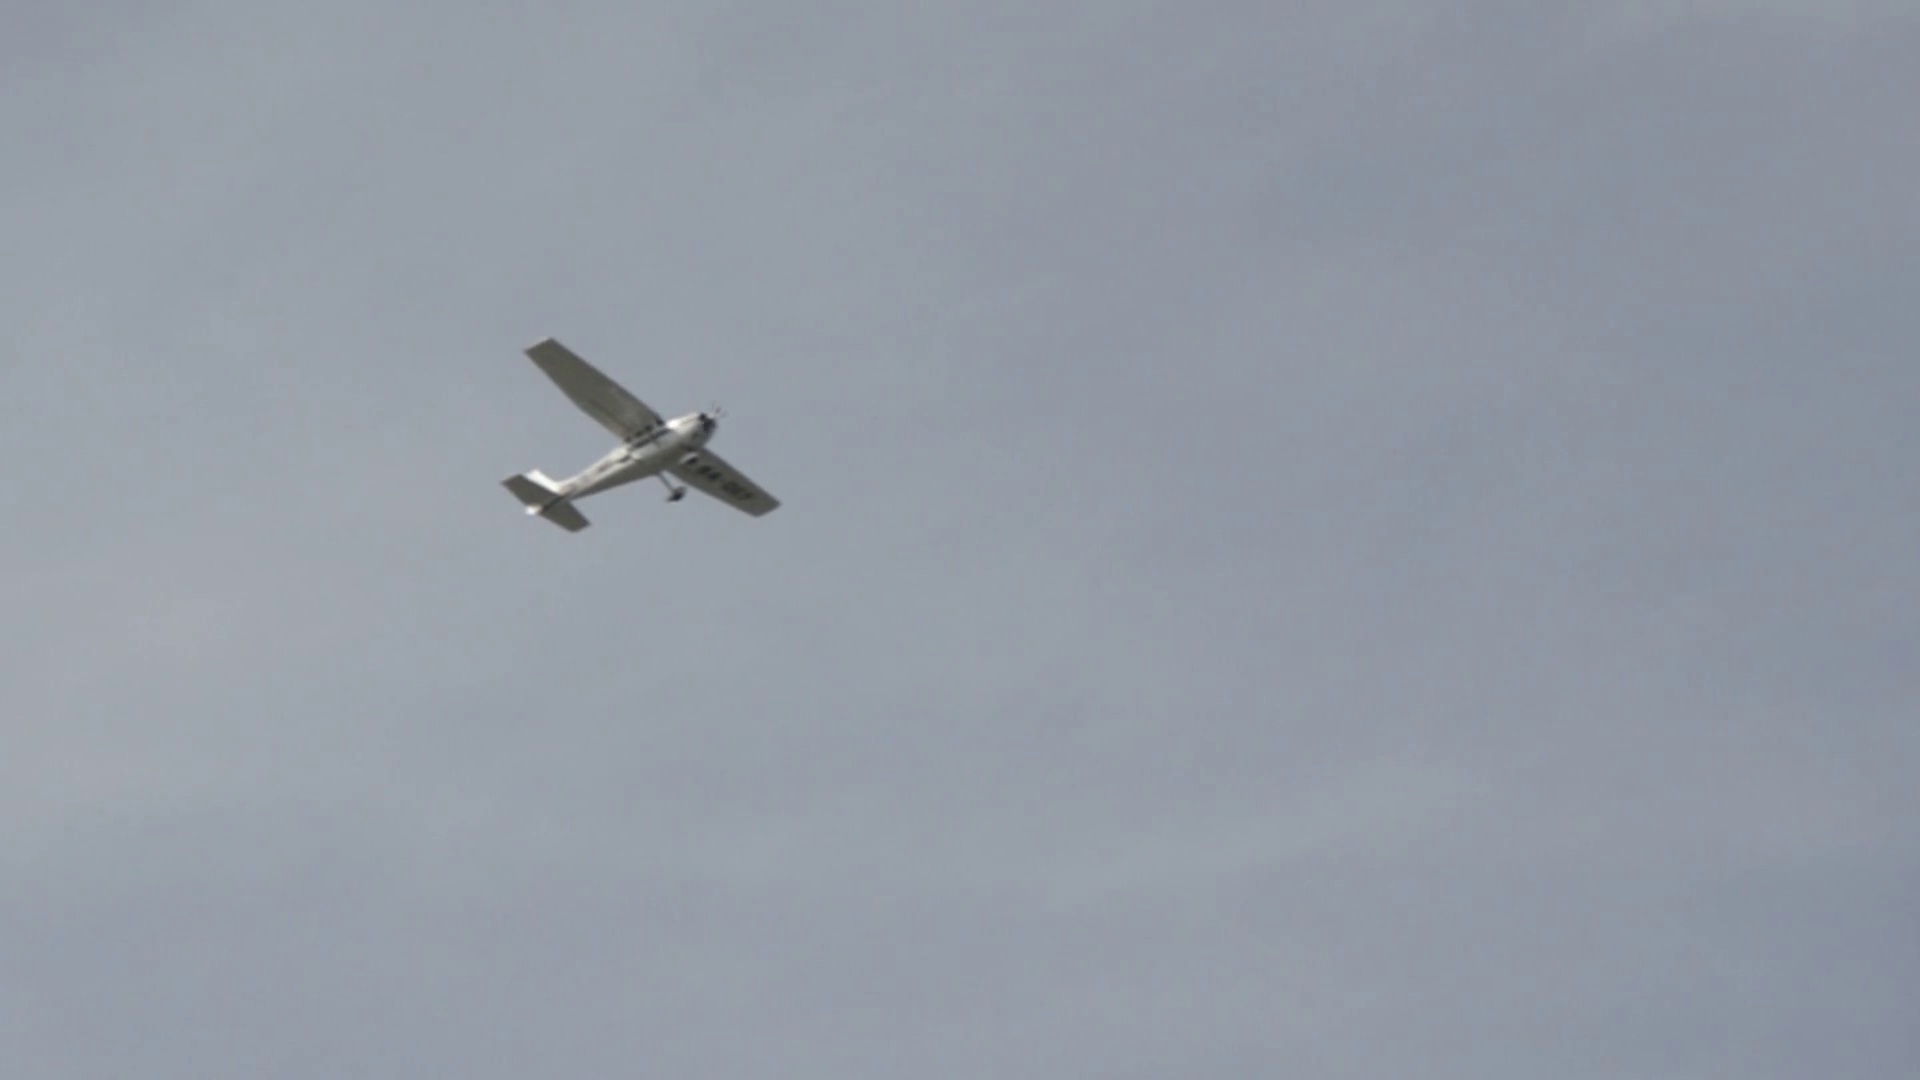plane: (497, 336, 781, 531)
